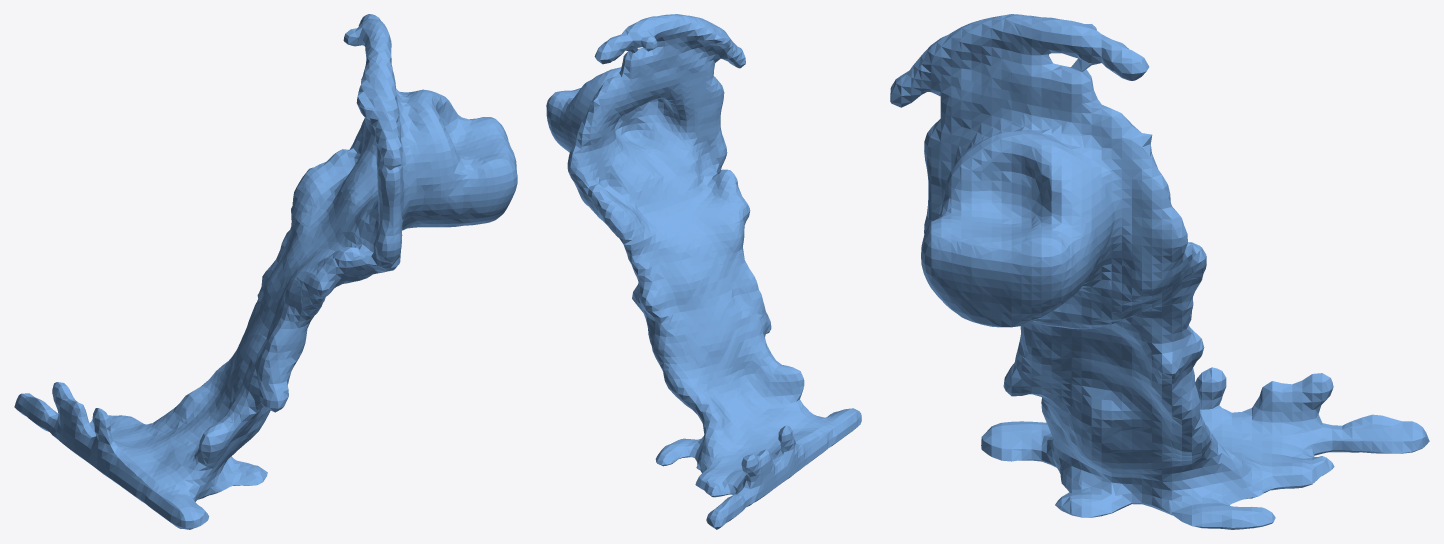
File: water_0036.glb
3 renders of one model, left to right at view 1: azimuth 30°, elevation 25°; view 2: azimuth 150°, elevation 25°; view 3: azimuth 270°, elevation 25°, orthographic. The views are drawn at different scales.
Visible parts, largest first — view 1: Water_0036; view 2: Water_0036; view 3: Water_0036.
Part boxes in pixels (x1,y1,x2,y2): Water_0036: [14, 14, 517, 529]; Water_0036: [546, 14, 861, 529]; Water_0036: [890, 14, 1429, 529].
Bounding box in the file's own units: 3.04 × 3.66 × 3.14.
